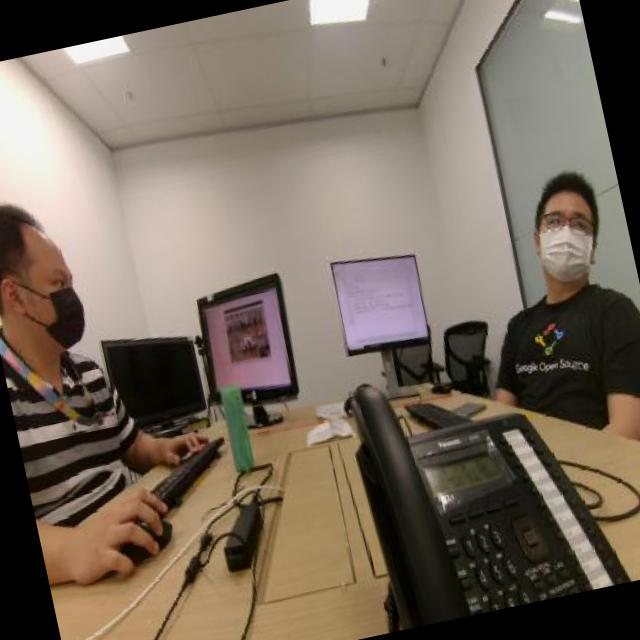Person: (0, 171, 149, 536), (471, 127, 640, 414)
